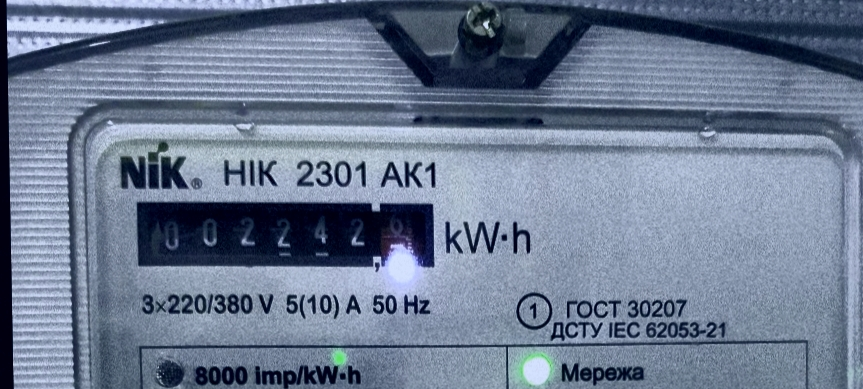0: (161, 218, 181, 252), (199, 215, 218, 248)
2: (273, 215, 292, 249), (237, 215, 256, 247), (348, 216, 365, 248)
4: (312, 213, 328, 246)
6: (388, 209, 404, 237)
screen: (125, 186, 444, 282)
